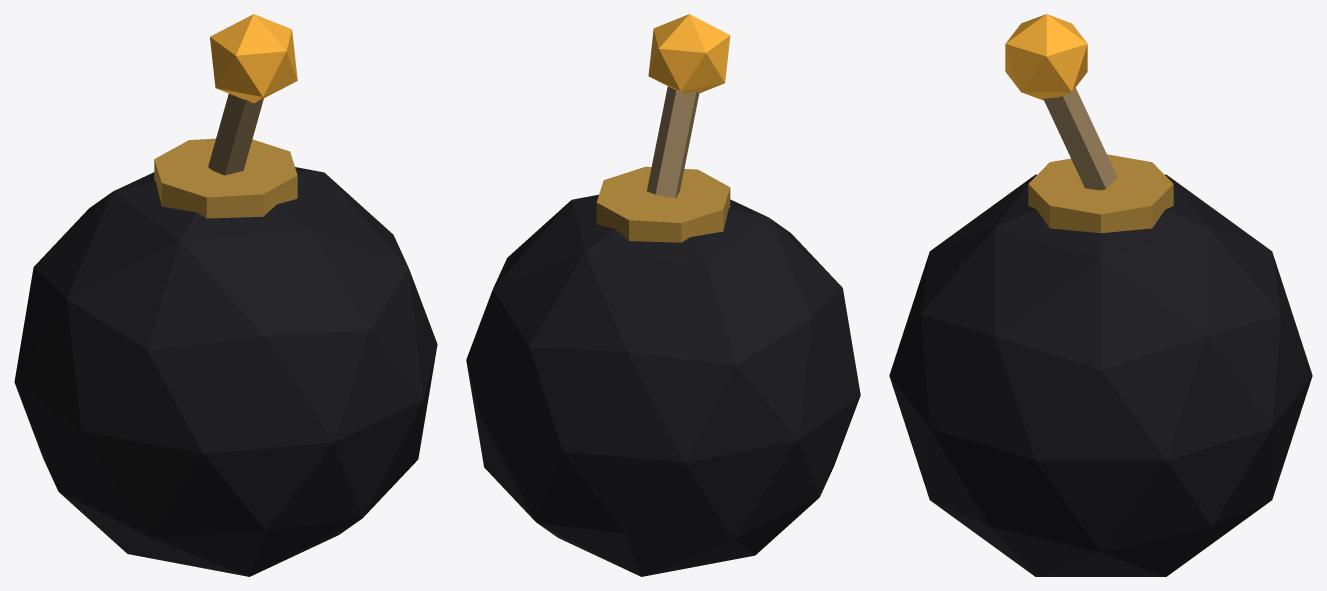
Rendered from Bomb.obj.
3 renders of one model, left to right at view 1: azimuth 30°, elevation 25°; view 2: azimuth 150°, elevation 25°; view 3: azimuth 270°, elevation 25°, orthographic. The views are drawn at different scales.
Visible parts, largest first — view 1: Bomb; view 2: Bomb; view 3: Bomb.
Boxes of the visible parts, box(x1,y1,x2,y2) form: Bomb: box(14, 14, 437, 576); Bomb: box(466, 14, 860, 576); Bomb: box(889, 14, 1312, 576).
Bounding box in the file's own units: 0.6657 × 1.01 × 0.7.
